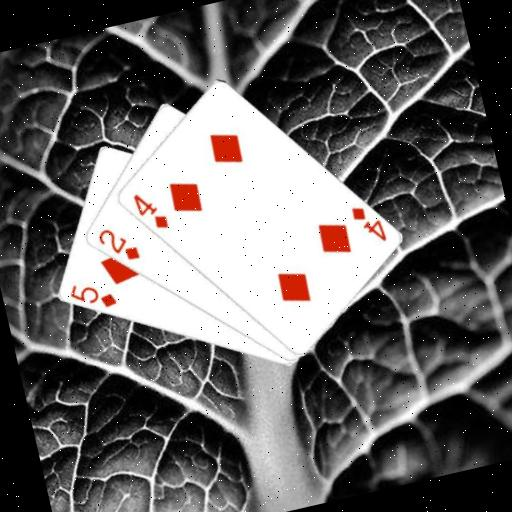2D: (93, 220, 142, 269)
4D: (347, 198, 390, 249), (128, 186, 171, 236)
5D: (64, 274, 119, 318)
